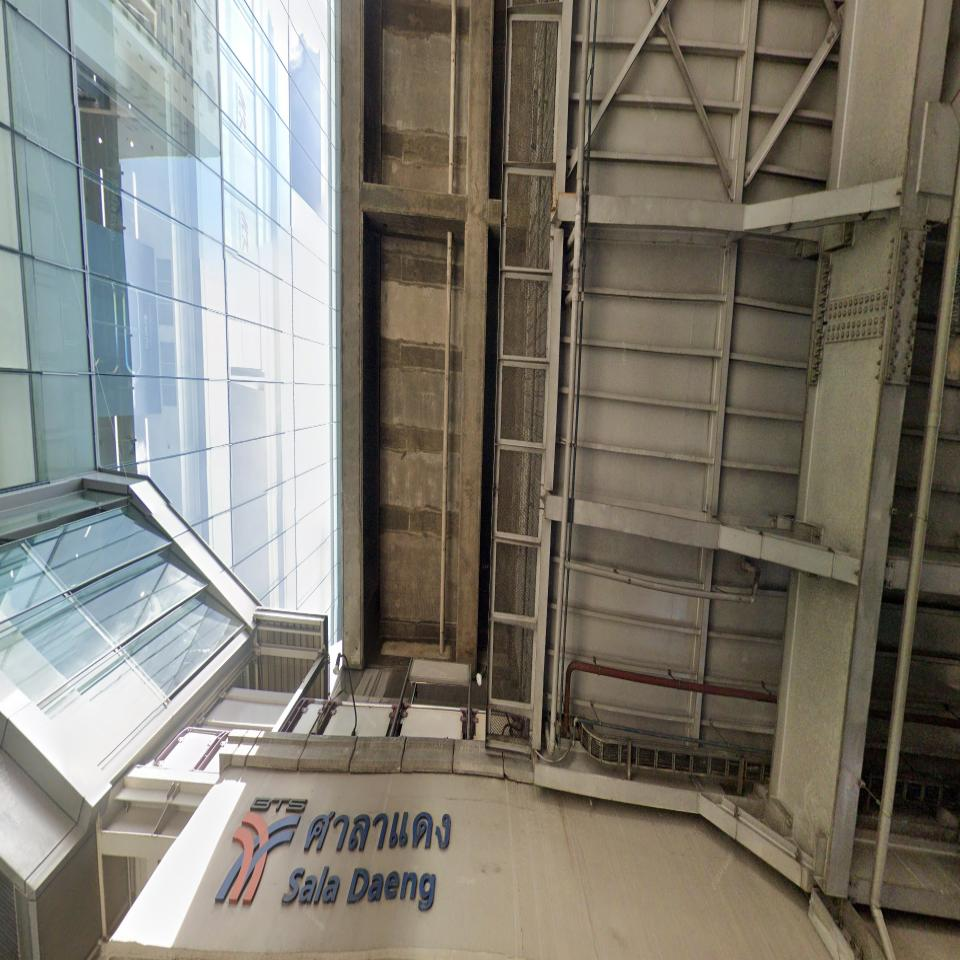signage: (214, 795, 454, 912), (281, 808, 453, 912)
